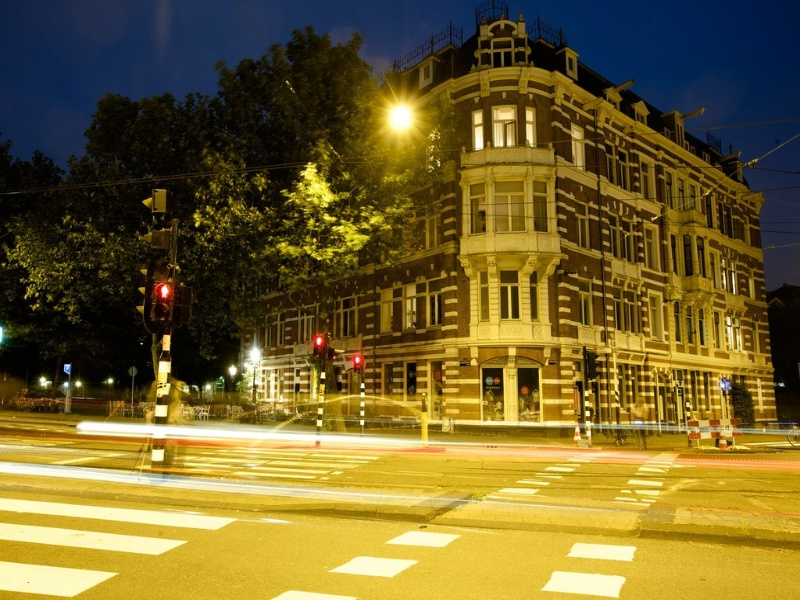pedestrian_crossing_red: (79, 473, 410, 599), (153, 279, 177, 303)
zebra_cross: (7, 426, 483, 600)
